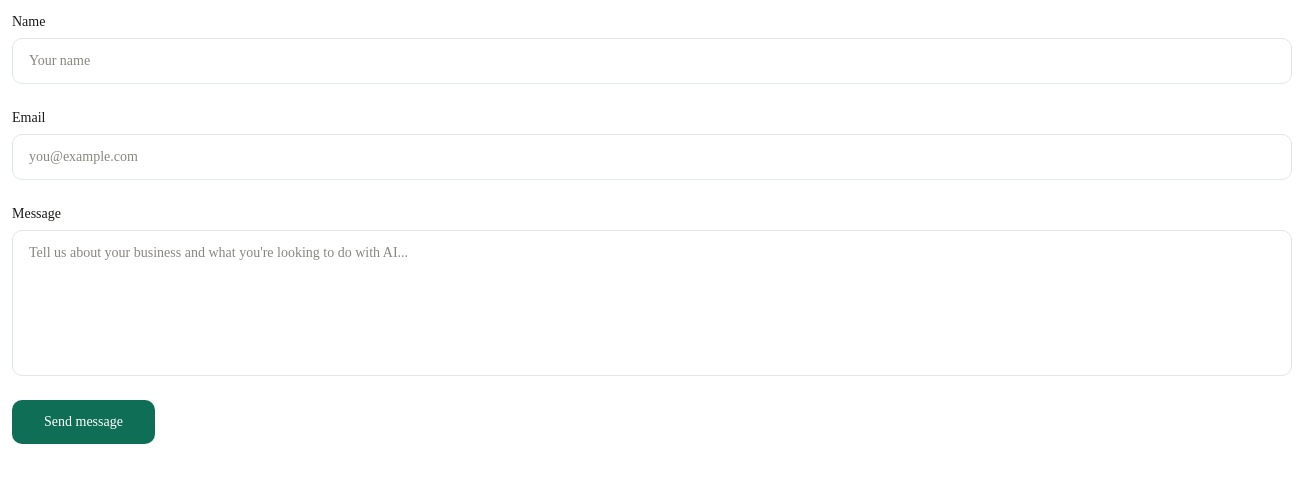
ContactForm › shows email format error for invalid email
This screenshot has width=1304, height=483.
In the field labelled "Name": (652, 61) [12,38,1292,84], type "Test User"
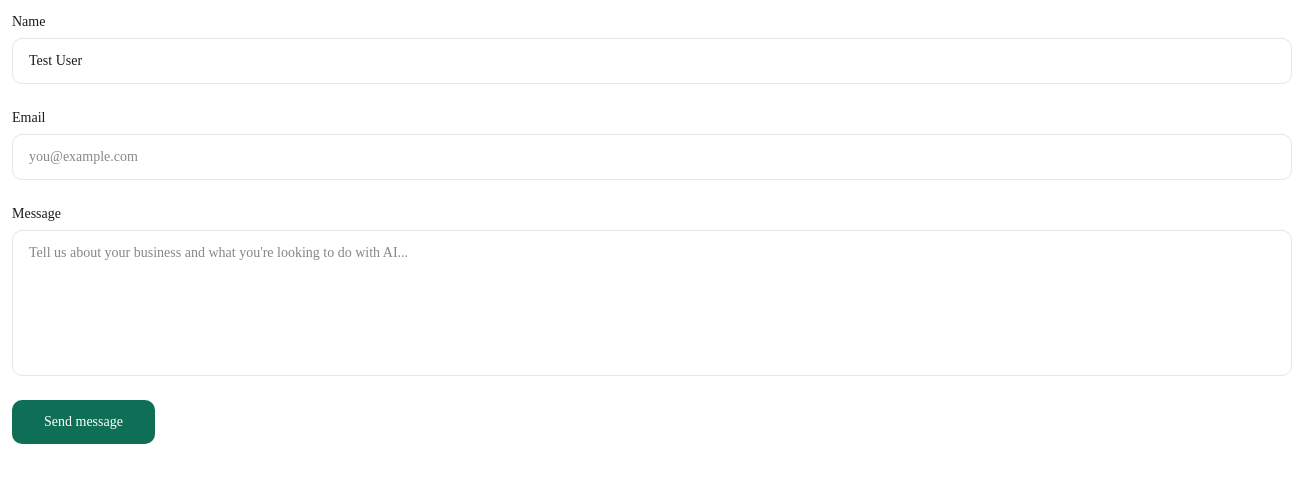
In the field labelled "Email": (652, 157) [12,134,1292,180], type "notanemail"
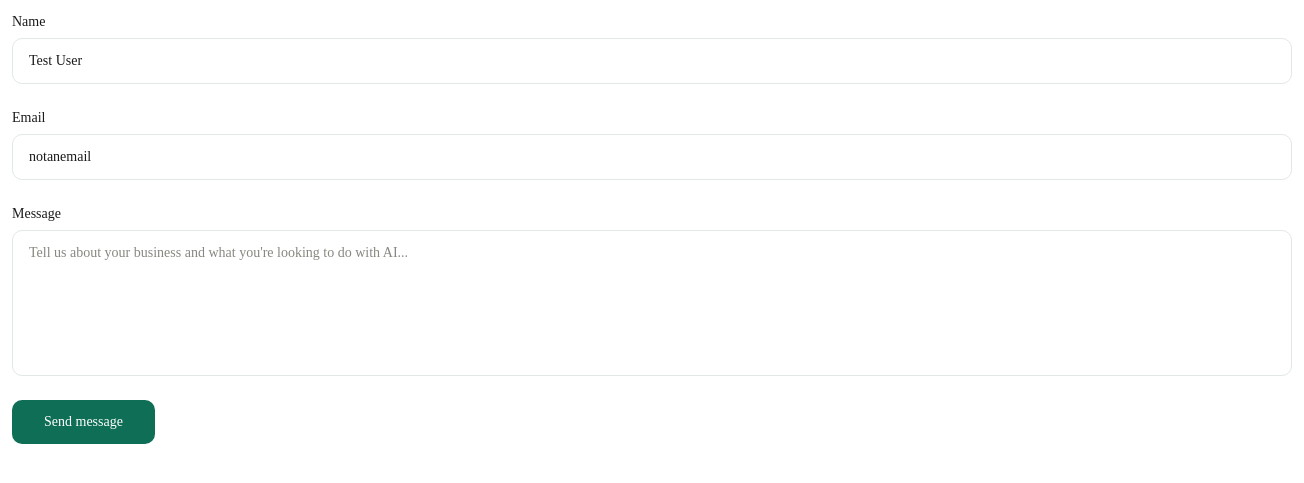
Replace the text in the text box labelled "Message" with "Hello": (652, 303) [12,230,1292,376]
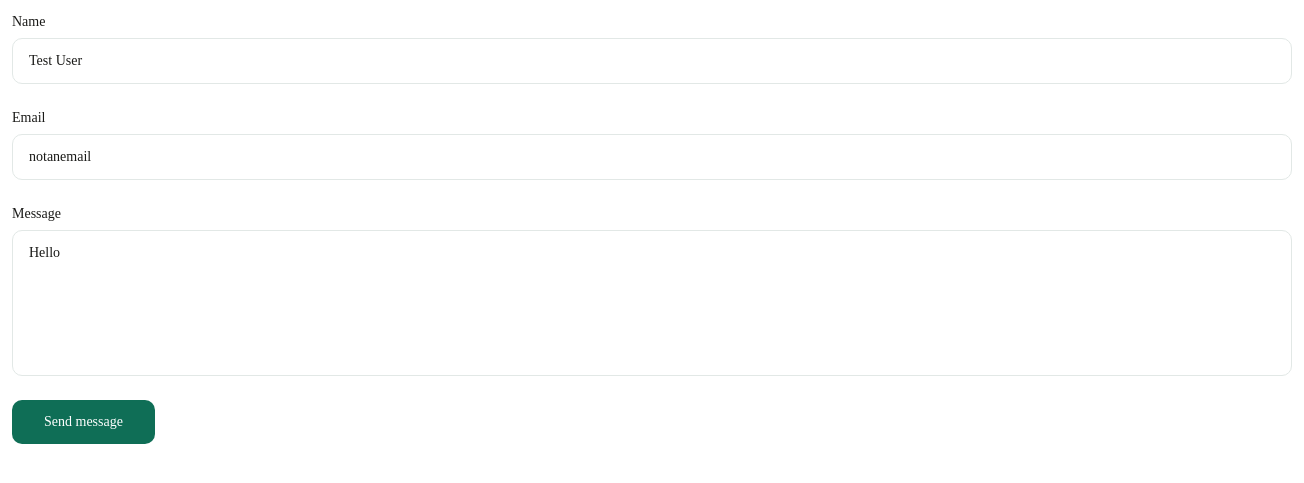
Click the button "Send message": (83, 422) [12,400,155,444]
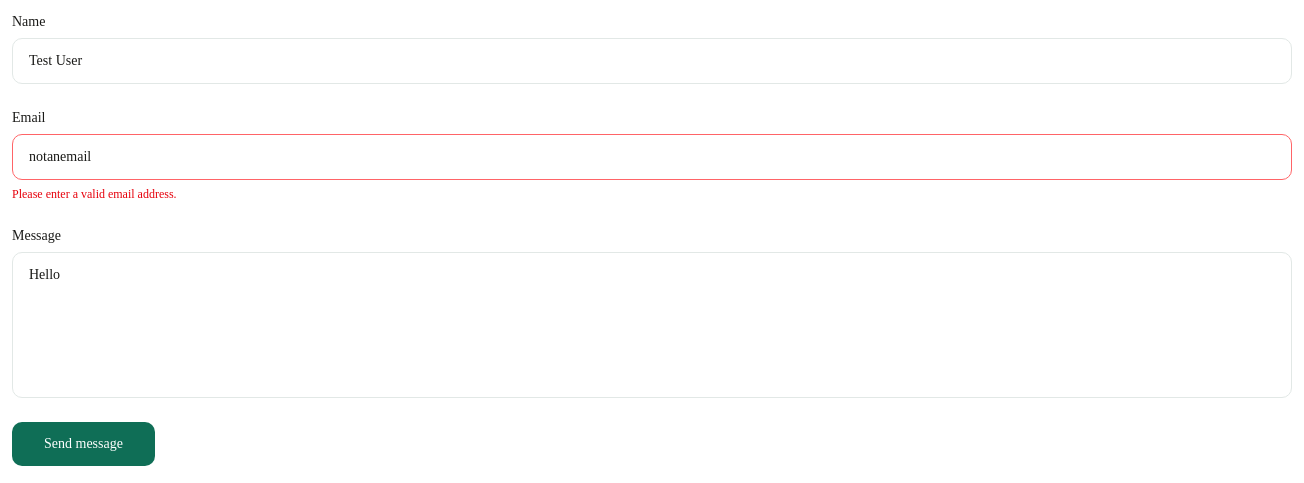
expect the text "Please enter a valid email address." is shown: met, box [12,187,177,201]
